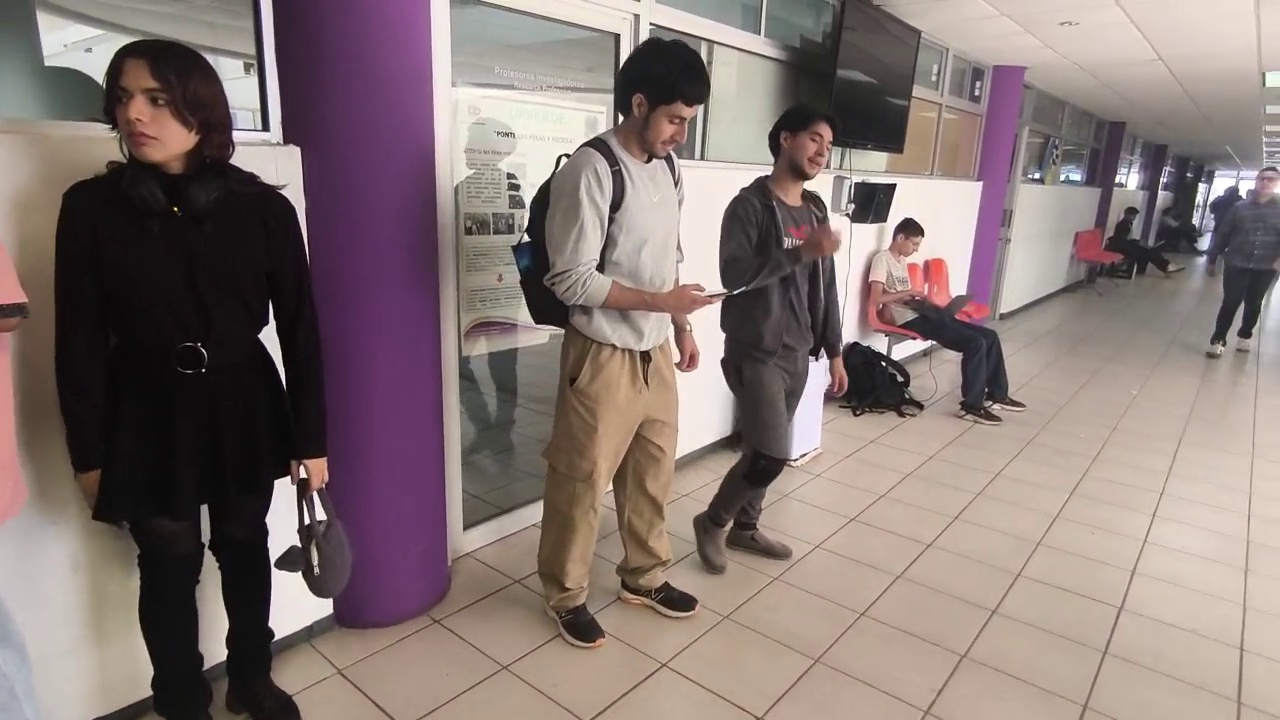mixto2: (698, 282, 750, 301)
